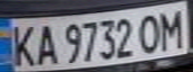2: (112, 15, 139, 58)
3: (97, 16, 118, 61)
7: (78, 18, 100, 63)
9: (60, 19, 81, 64)
A: (30, 20, 60, 66)
K: (3, 21, 39, 68)
M: (154, 7, 187, 51)
O: (136, 11, 163, 54)
